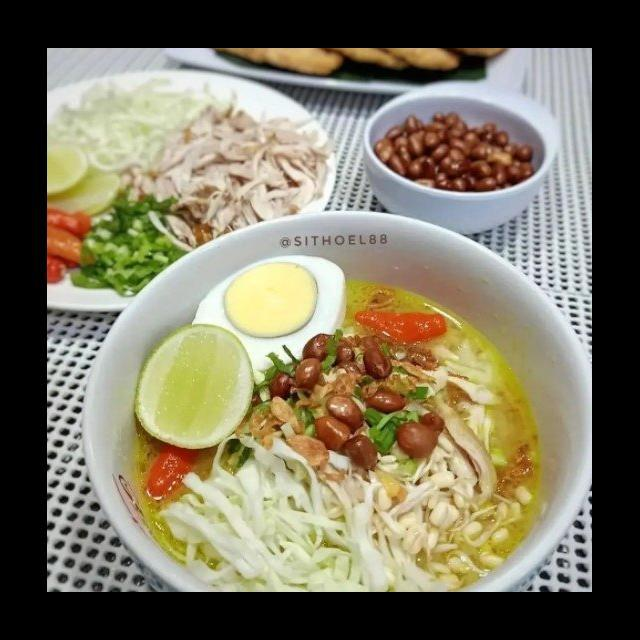Soto: (124, 256, 541, 592)
